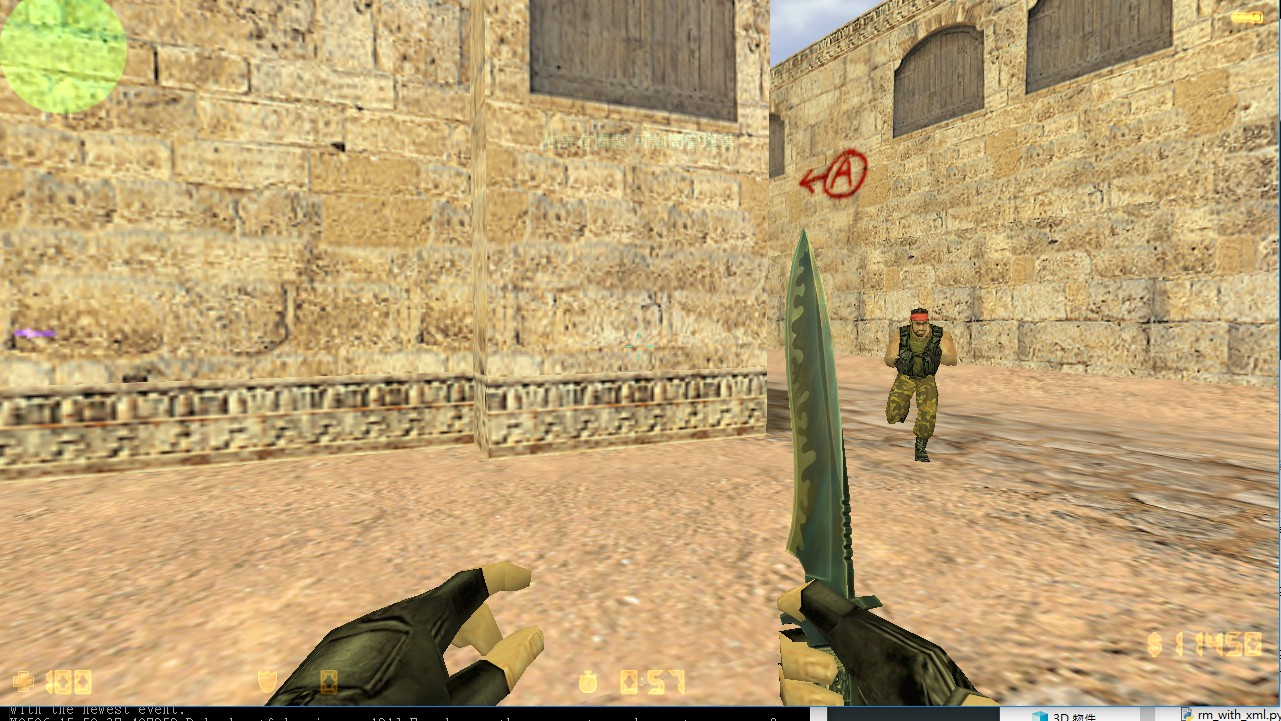person: (879, 299, 958, 468)
